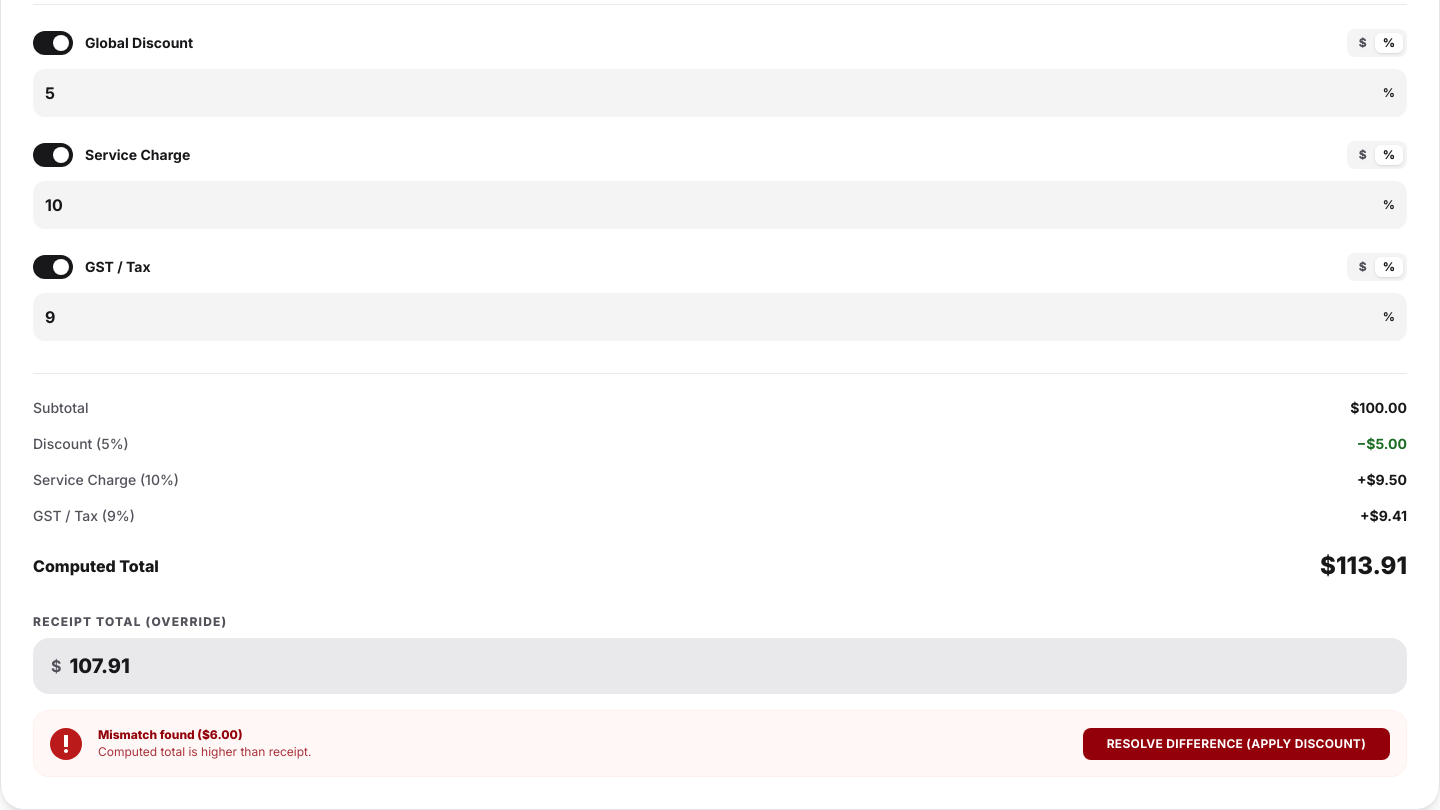
Test: reaches a lower receipt total with a discount before tax
This screenshot has width=1440, height=810.
(page scrolled)
Click the button with test id "apply-discount-reconcile-btn". click: click(1236, 744)
box: [1083,728,1390,760]
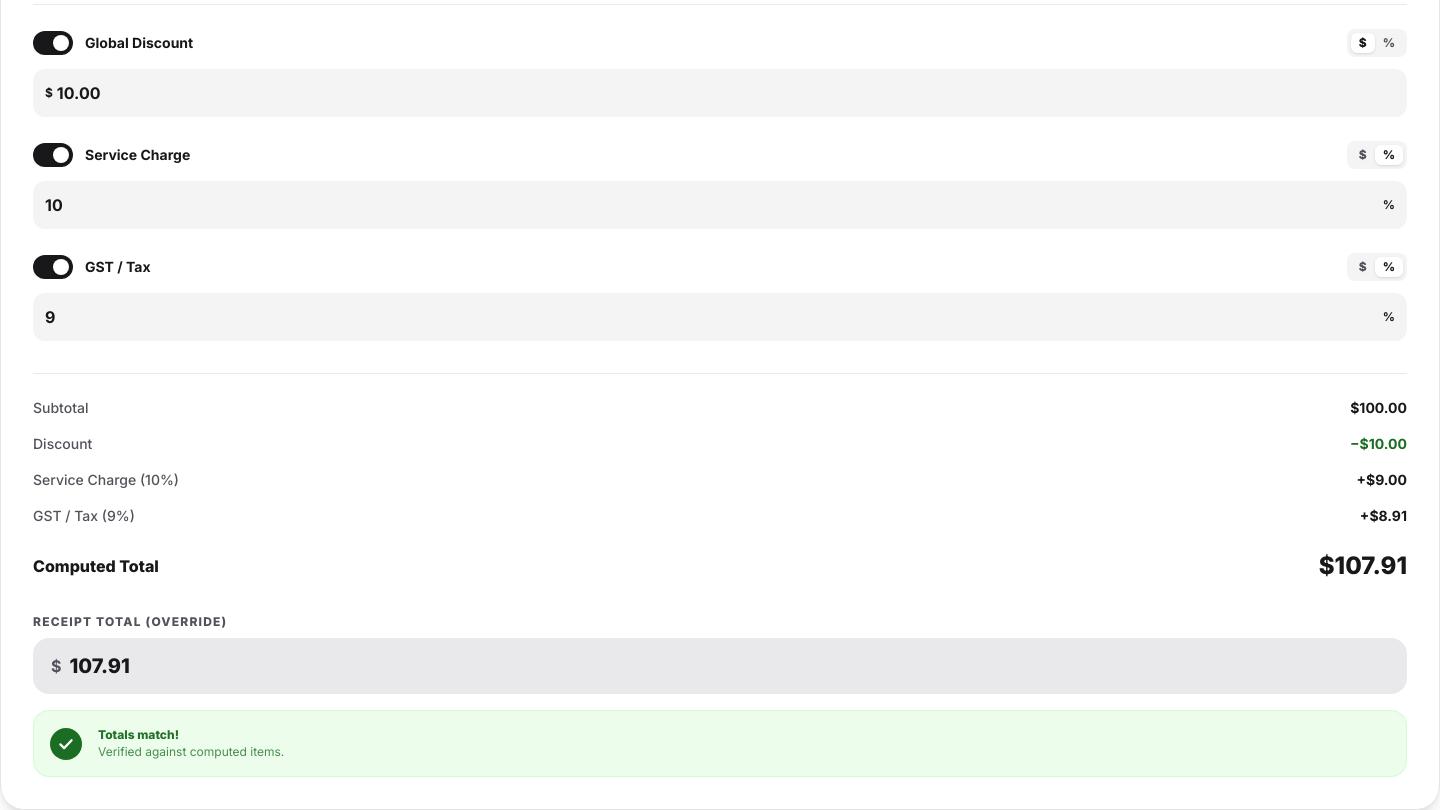
Result: the text "Totals match!" is shown at [98,727,179,742]
